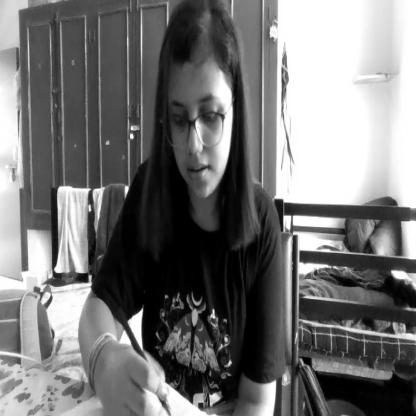Distracted: (158, 2, 239, 202)
